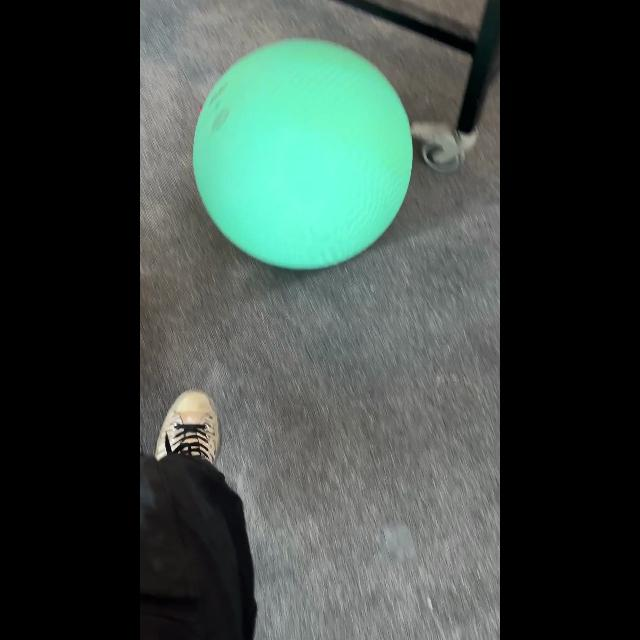ALGAE: (191, 38, 413, 270)
